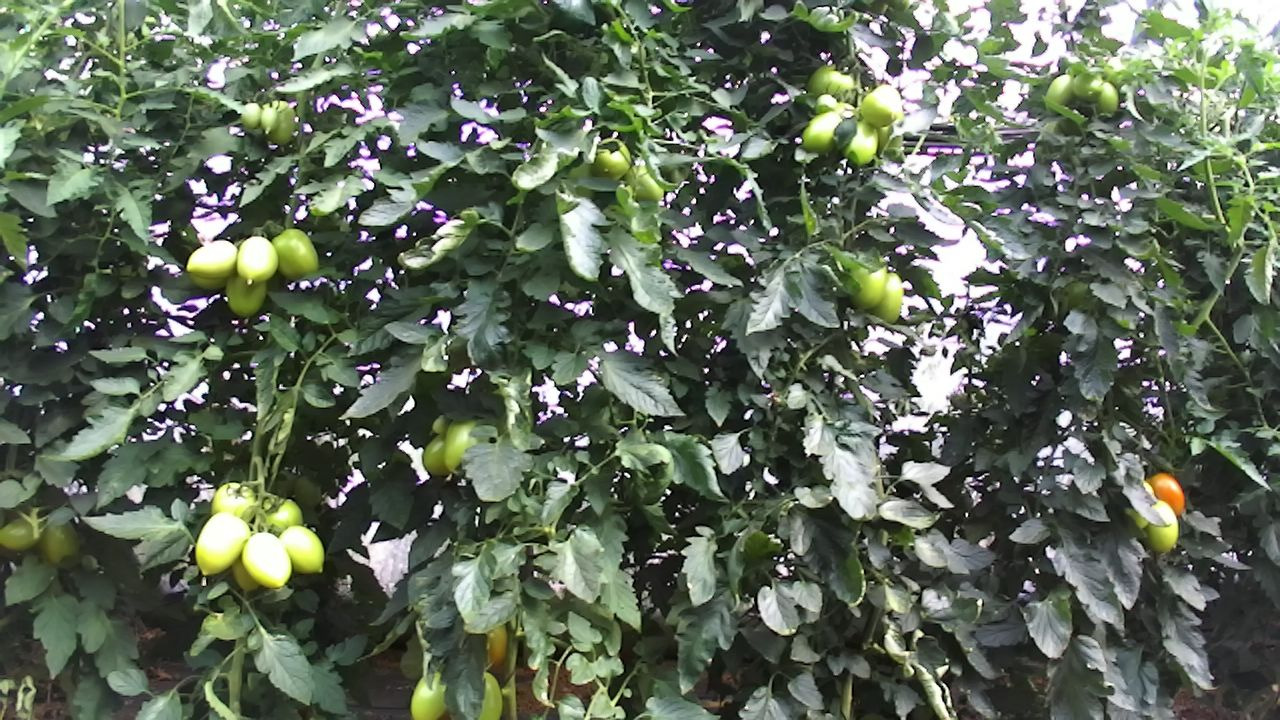tomato: (194, 509, 251, 577), (239, 529, 295, 589), (275, 523, 327, 577), (220, 270, 273, 322), (268, 226, 319, 279), (33, 519, 85, 569), (846, 257, 891, 313), (182, 238, 239, 282), (234, 234, 280, 287), (798, 107, 845, 157), (408, 668, 451, 720), (1143, 497, 1181, 555), (859, 83, 907, 127), (872, 267, 905, 329), (842, 114, 880, 167), (259, 96, 298, 147), (1145, 471, 1187, 518), (1042, 69, 1077, 117), (0, 515, 42, 553), (1071, 68, 1104, 104), (239, 100, 262, 129), (259, 105, 280, 136)
